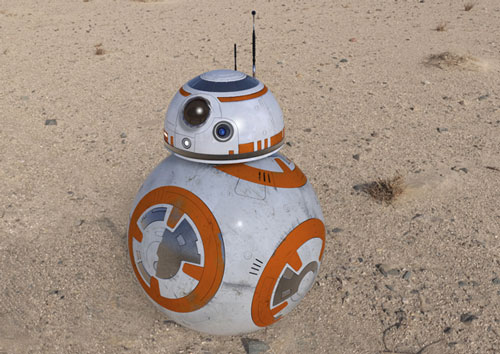bb8: (126, 70, 327, 335)
